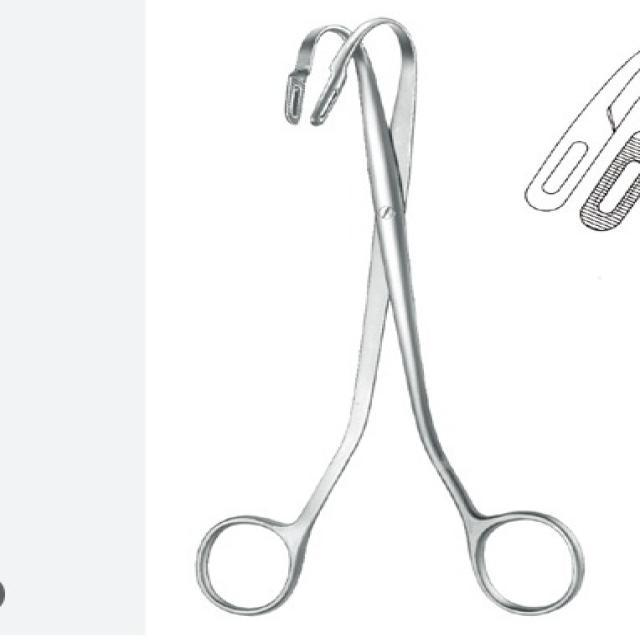Randall: (217, 16, 586, 628)
